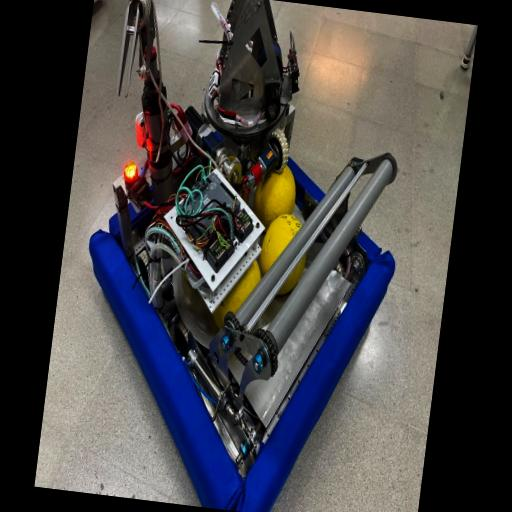robot: (55, 0, 427, 512)
